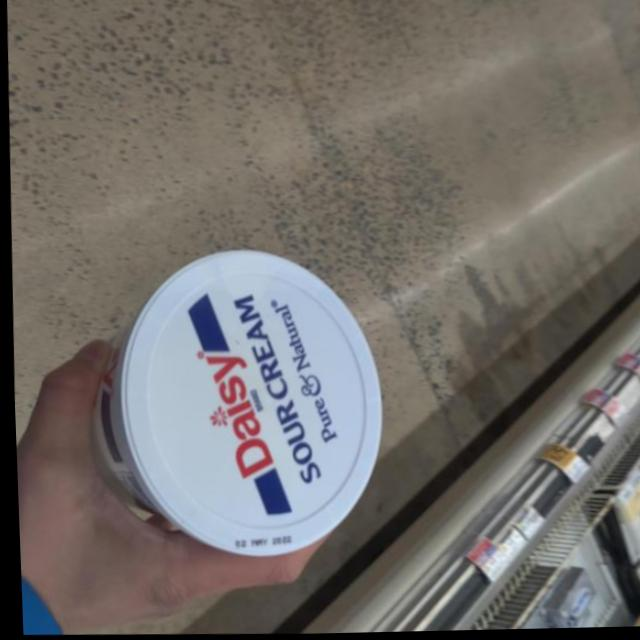Yogurt: (79, 242, 382, 568)
